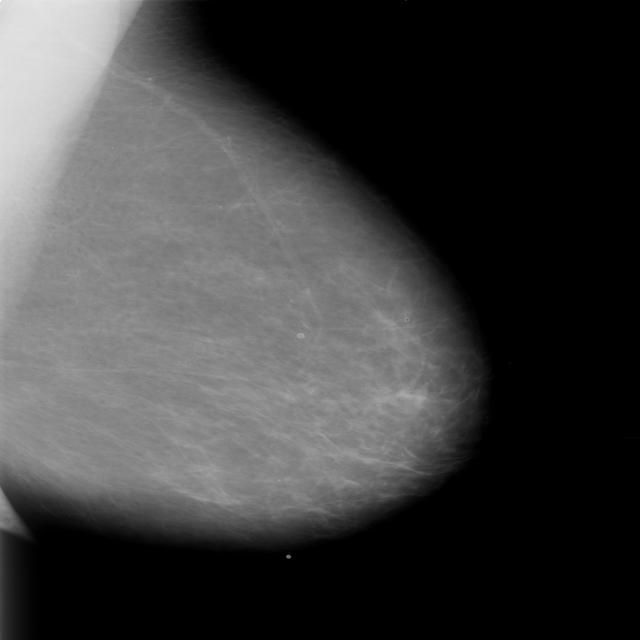normal: (0, 0, 469, 544)
